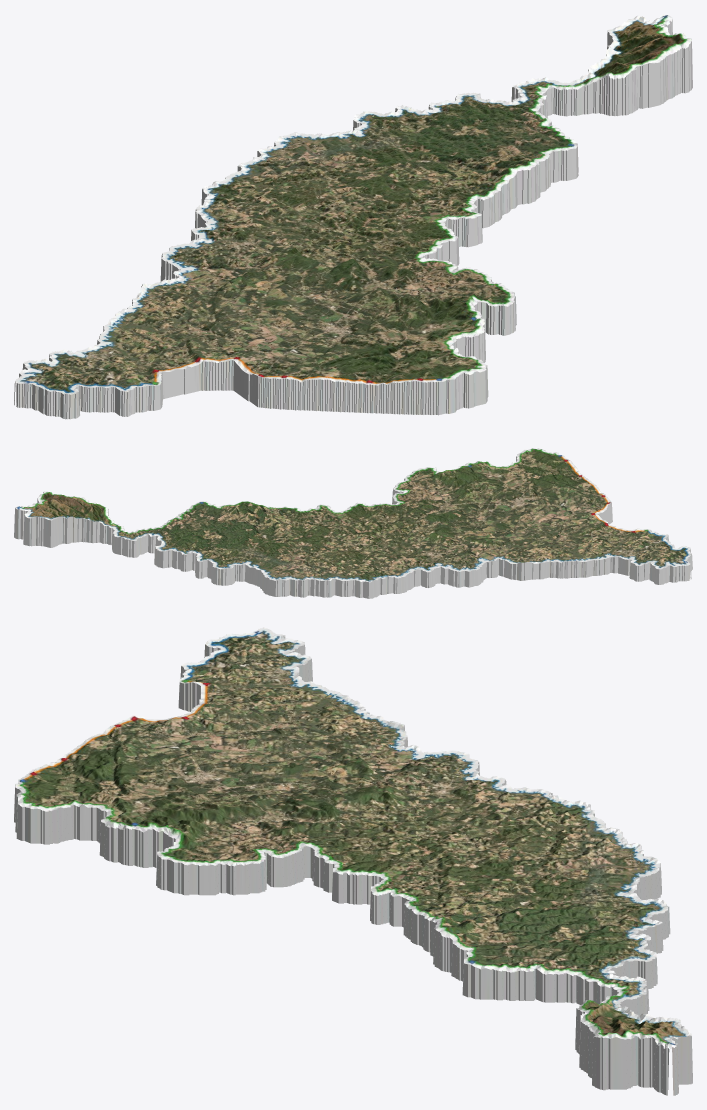
3 renders of one model, top to bottom at view 1: azimuth 30°, elevation 25°; view 2: azimuth 150°, elevation 25°; view 3: azimuth 270°, elevation 25°, orthographic. The views are drawn at different scales.
Bounding box in the file's own units: 1 × 0.0568 × 0.6482.
Materials: 1 (1 with a texture image).
